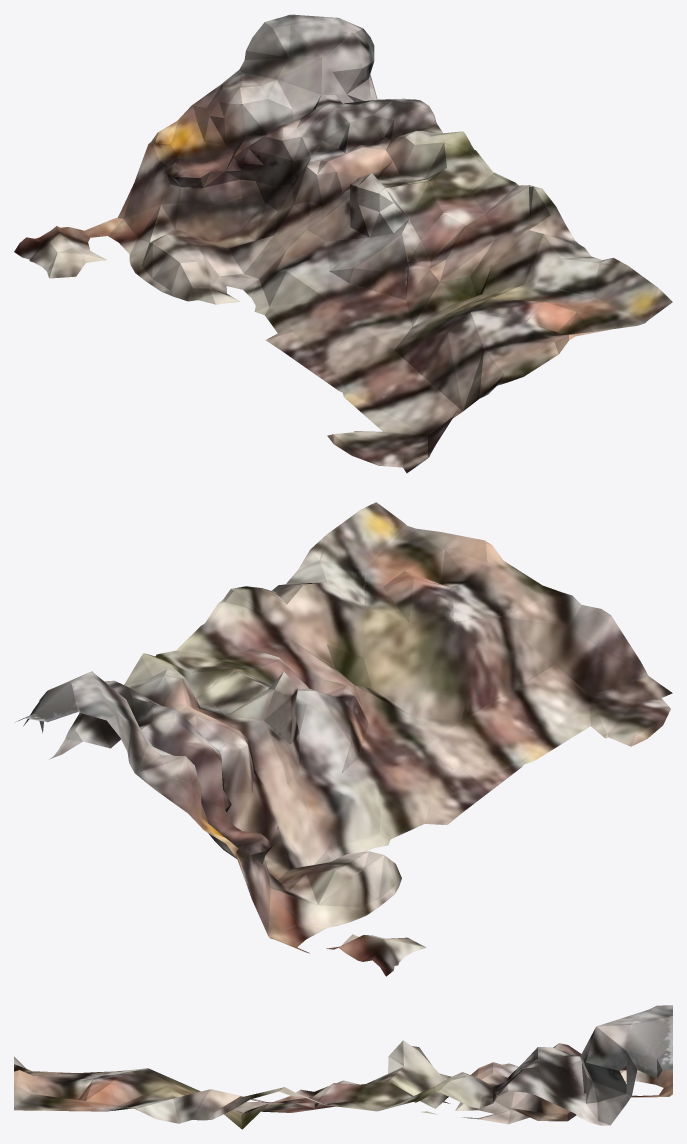
The picture shows the model from 3 angles, top to bottom: view 1: azimuth 30°, elevation 25°; view 2: azimuth 150°, elevation 25°; view 3: azimuth 270°, elevation 25°; orthographic projection. The views are drawn at different scales.
Size of the model in its own units: 0.9949 by 0.4985 by 1.67.
2 materials, 2 textured.
